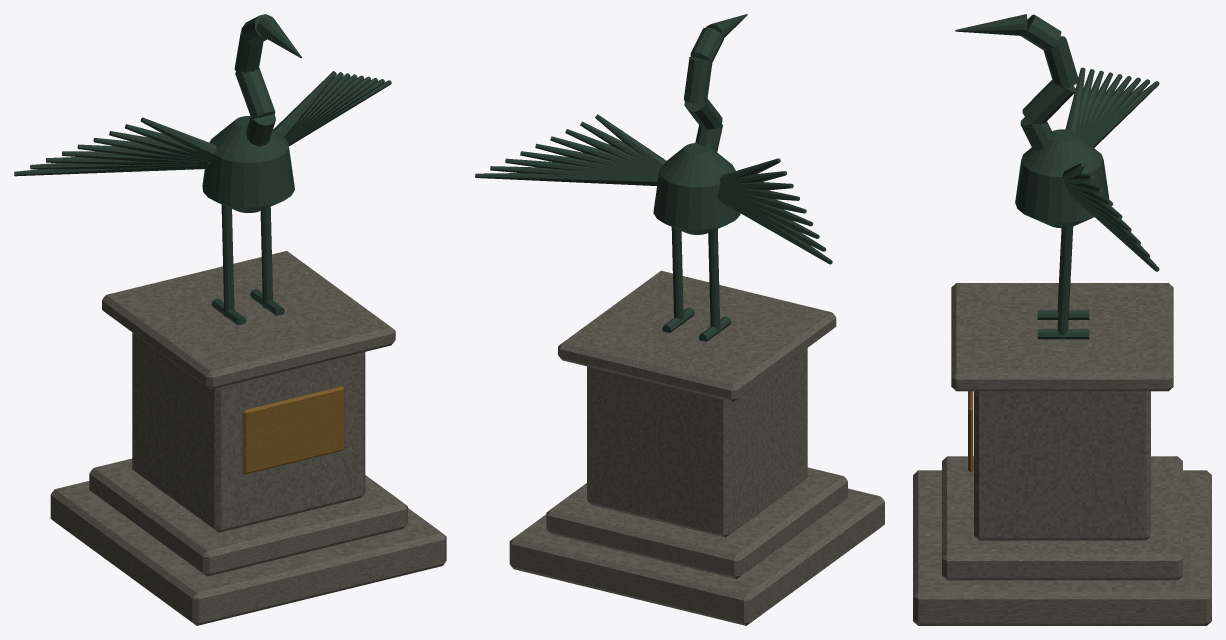
File: level_camp_heron_memorial.glb
3 views of the same model, side by side, from view 1: azimuth 30°, elevation 25°; view 2: azimuth 150°, elevation 25°; view 3: azimuth 270°, elevation 25° (orthographic). The views are drawn at different scales.
Visible parts, largest first — view 1: level_camp_heron_memorial; view 2: level_camp_heron_memorial; view 3: level_camp_heron_memorial.
Part boxes in pixels (x1,y1,x2,y2): level_camp_heron_memorial: [14, 14, 446, 625]; level_camp_heron_memorial: [475, 14, 884, 625]; level_camp_heron_memorial: [913, 14, 1211, 625].
Bounding box in the file's own units: 2.15 × 2.94 × 1.45.
3 materials, 3 textured.
